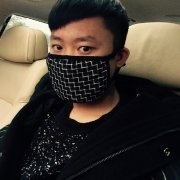Mask: (50, 35, 117, 102)
